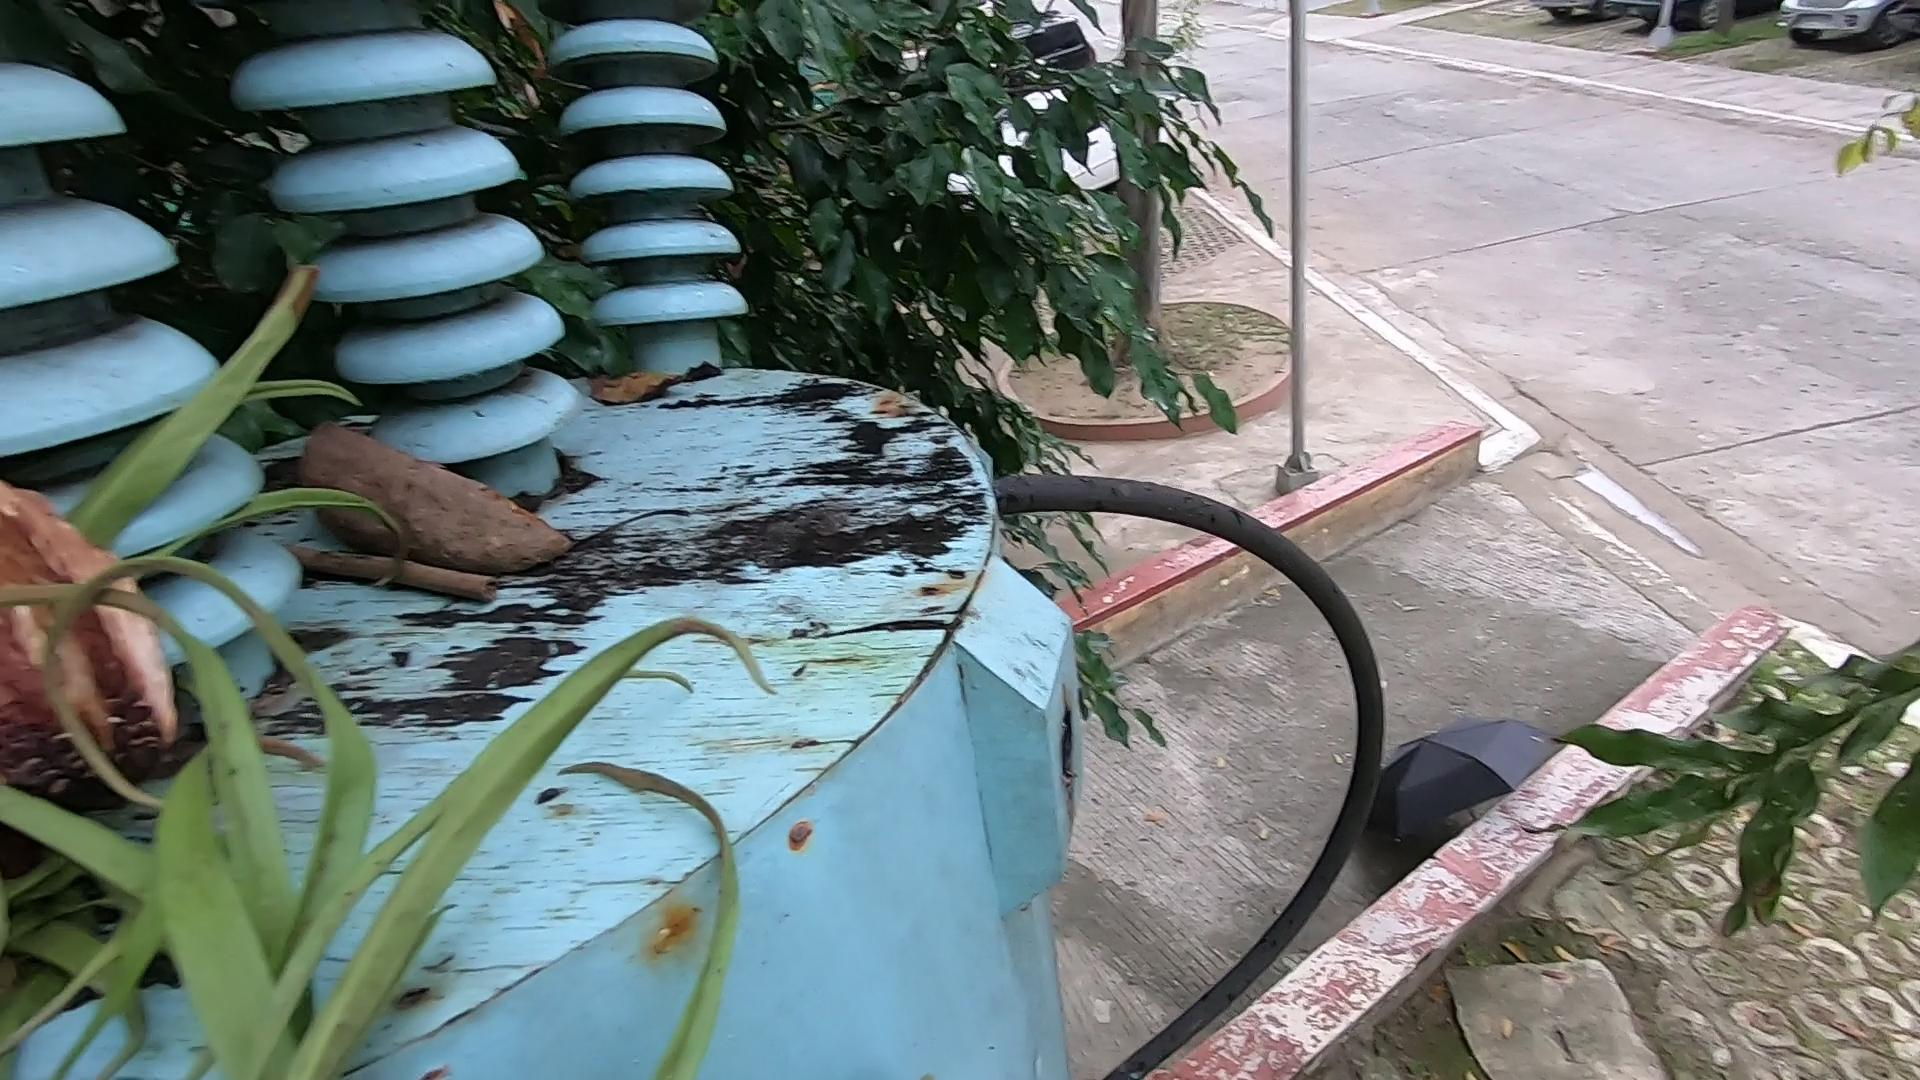leaf: (3, 455, 651, 1080), (615, 348, 727, 421)
mahogany fruit: (306, 388, 628, 613), (24, 462, 224, 786)
tree branch: (281, 505, 508, 622)
